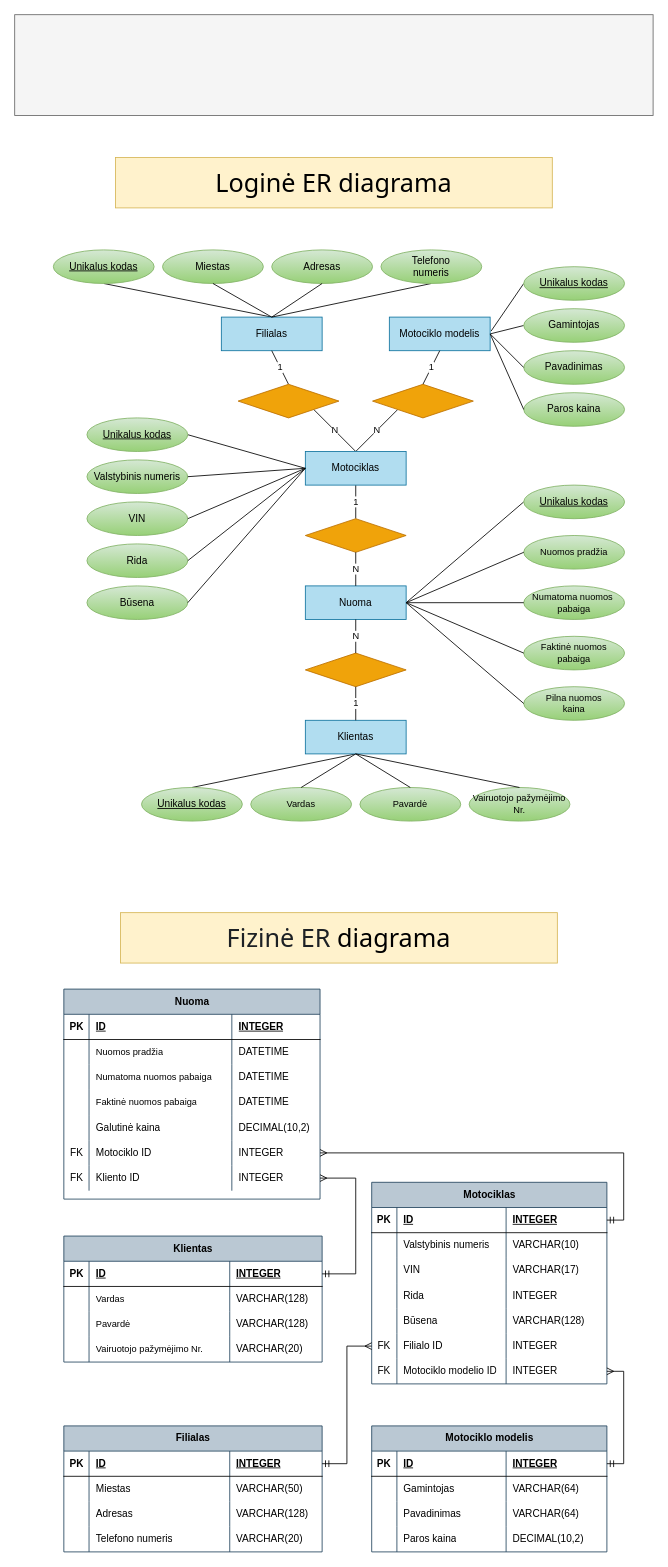
The diagram is 668 pixels wide and 1567 high, and some of its shapes have lost their labels. Here are the shapes that lost their labels. From the top down, the centre of each, then its label:
At (333,65): "Motociklų nuomos i nformacinė sistema - Esybių ryšių (ER) diagramos".
At (288,400): "turi".
At (422,400): "apibūdina".
At (355,535): "nuomojamas".
At (355,669): "sudaro".
